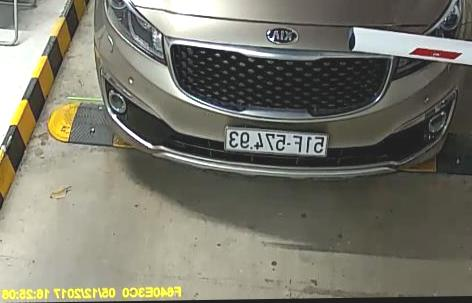License_Plate: (219, 127, 334, 158)
